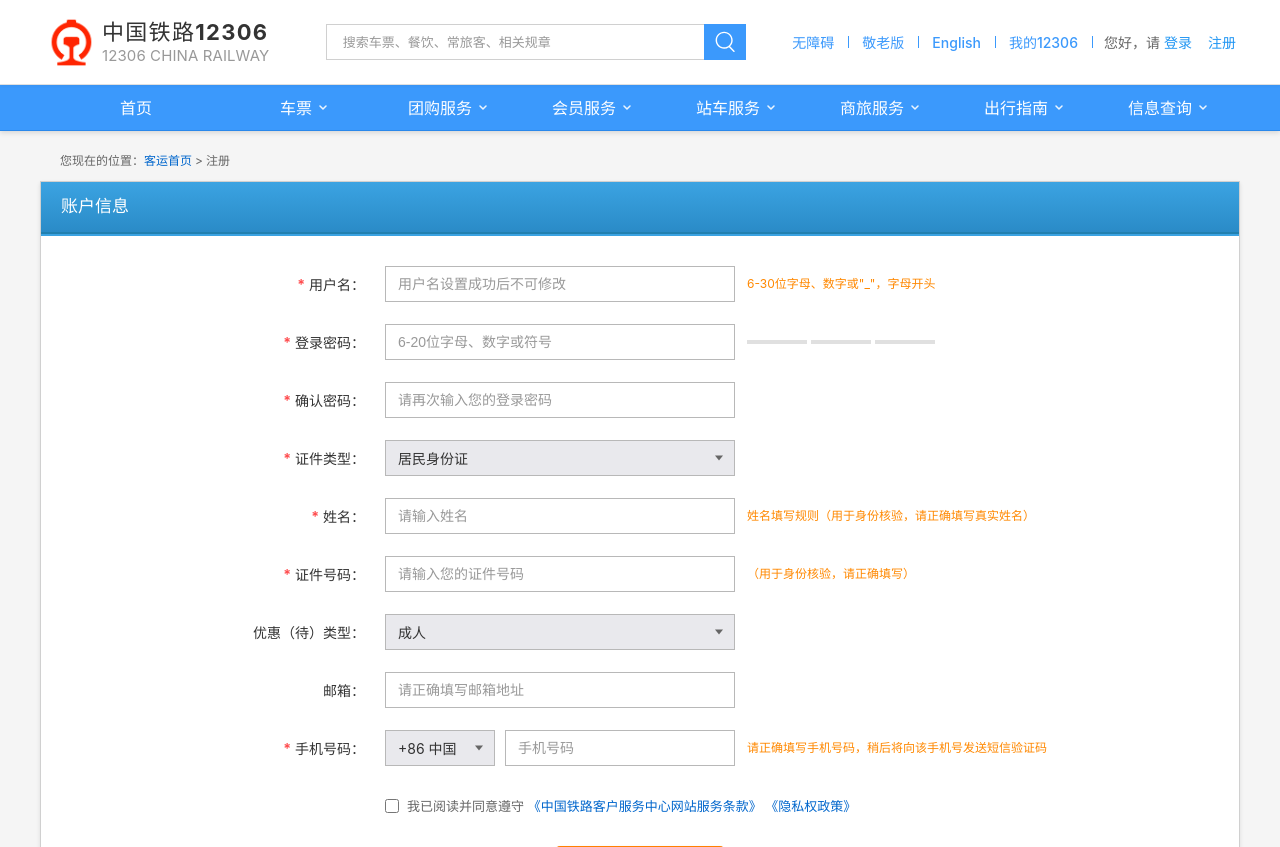
Scenario: 跨组件交互：注册表单验证流程 › 用户名字段验证 (需求 3.2.1) › 应该在用户名以数字开头时显示错误提示
This screenshot has width=1280, height=847.
Check: the text "账户信息" is shown, box [41,182,1239,234]
Type "123user" into the field with placeholder "用户名设置成功后不可修改" at (560, 284), box [385,266,735,302]
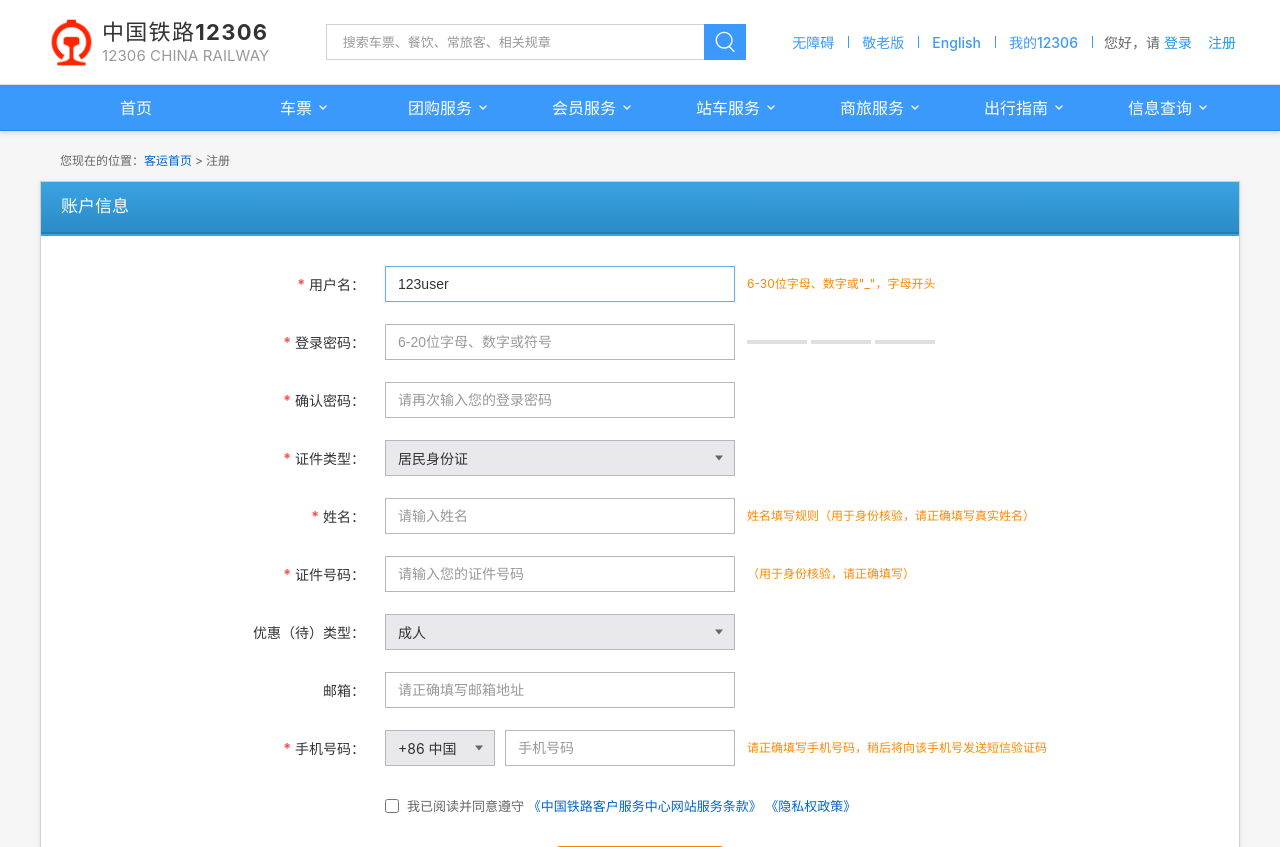
Press Tab
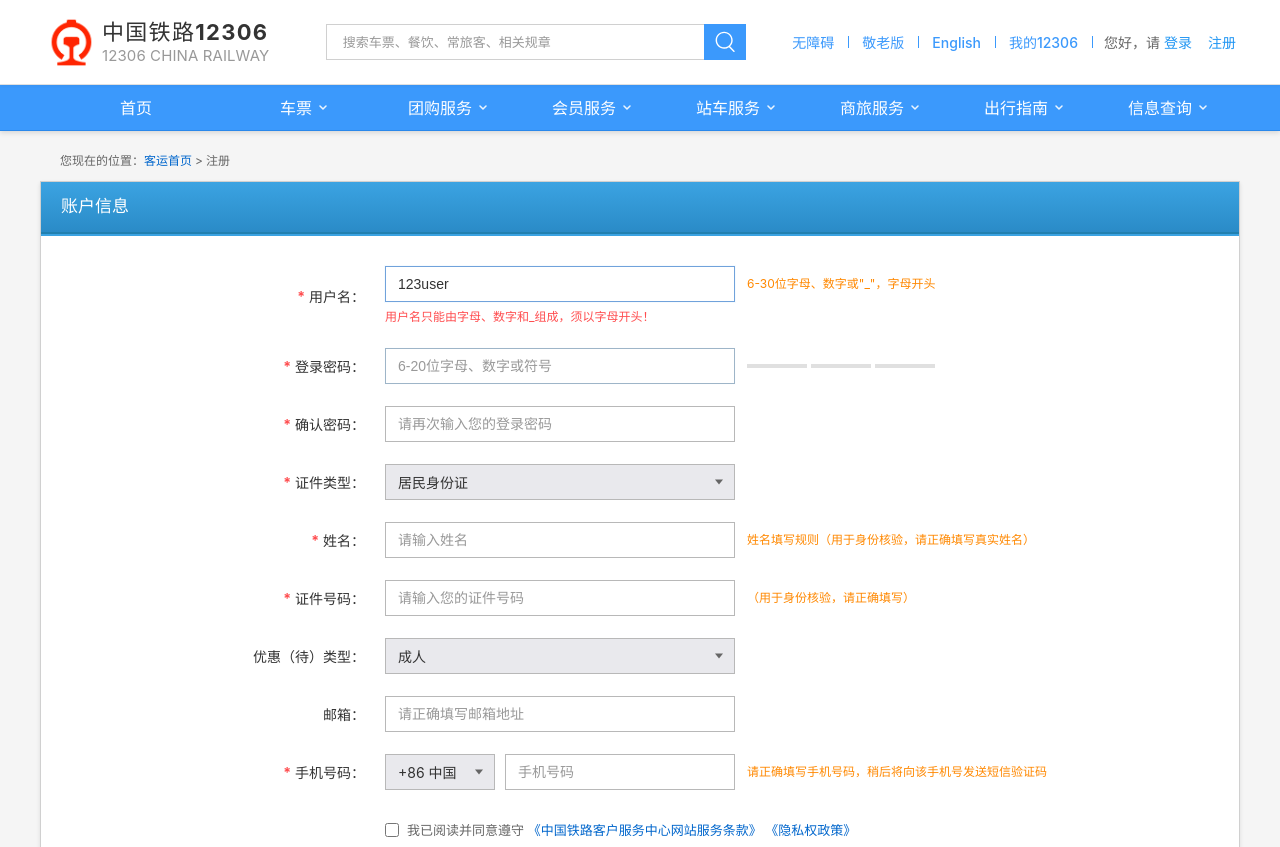
Check: the text "用户名只能由字母、数字和_组成，须以字母开头！" is shown, box [385,308,654,324]
